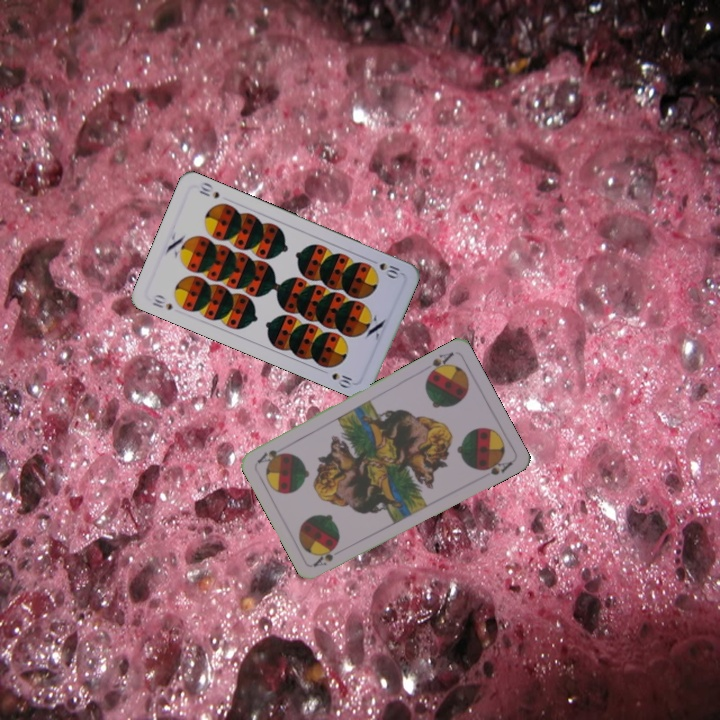S10: (366, 255, 404, 281), (148, 295, 175, 313)
SA: (423, 348, 457, 379), (310, 544, 338, 569)
